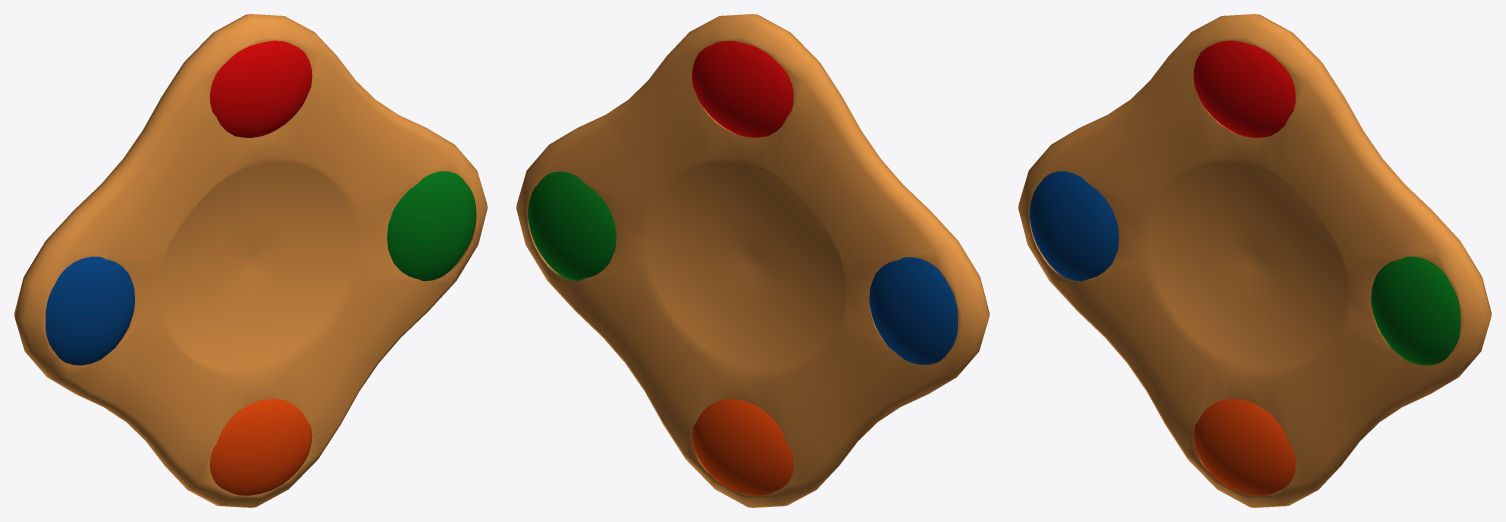
The model's file is Coin (Untextured).fbx.
3 renders of one model, left to right at view 1: azimuth 30°, elevation 25°; view 2: azimuth 150°, elevation 25°; view 3: azimuth 330°, elevation 25°, orthographic.
Parts seen in each view (by area): view 1: pCylinder3, pSphere18, pSphere12, pSphere17, pSphere19; view 2: pCylinder3, pSphere12, pSphere18, pSphere17, pSphere19; view 3: pCylinder3, pSphere19, pSphere12, pSphere17, pSphere18.
Boxes of the visible parts, <box> form: pCylinder3: <box>14,14,487,507</box>; pSphere18: <box>45,256,134,365</box>; pSphere12: <box>210,40,312,137</box>; pSphere17: <box>210,399,312,495</box>; pSphere19: <box>387,171,476,281</box>; pCylinder3: <box>516,14,989,507</box>; pSphere12: <box>692,41,793,137</box>; pSphere18: <box>869,257,957,364</box>; pSphere17: <box>692,399,793,495</box>; pSphere19: <box>527,171,616,280</box>; pCylinder3: <box>1018,14,1491,507</box>; pSphere19: <box>1371,256,1460,365</box>; pSphere12: <box>1193,40,1295,137</box>; pSphere17: <box>1193,398,1295,495</box>; pSphere18: <box>1029,171,1118,281</box>.
Bounding box in the file's own units: 4.3 × 4.3 × 0.4641.
